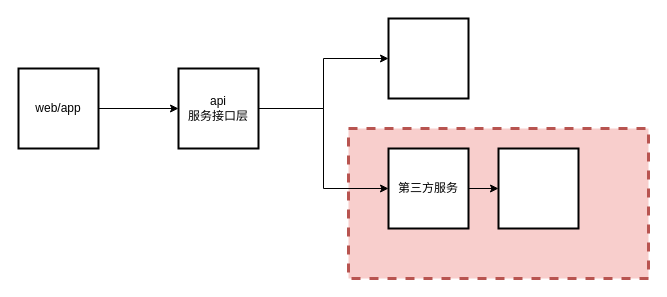
Image size: 667x297. Some labels were removed from this diagram. Here are the shapes that lost their labels. From the top down, the centre of each, then its label:
(428,58): MockServer
(538,188): 第三方服务 依赖方
